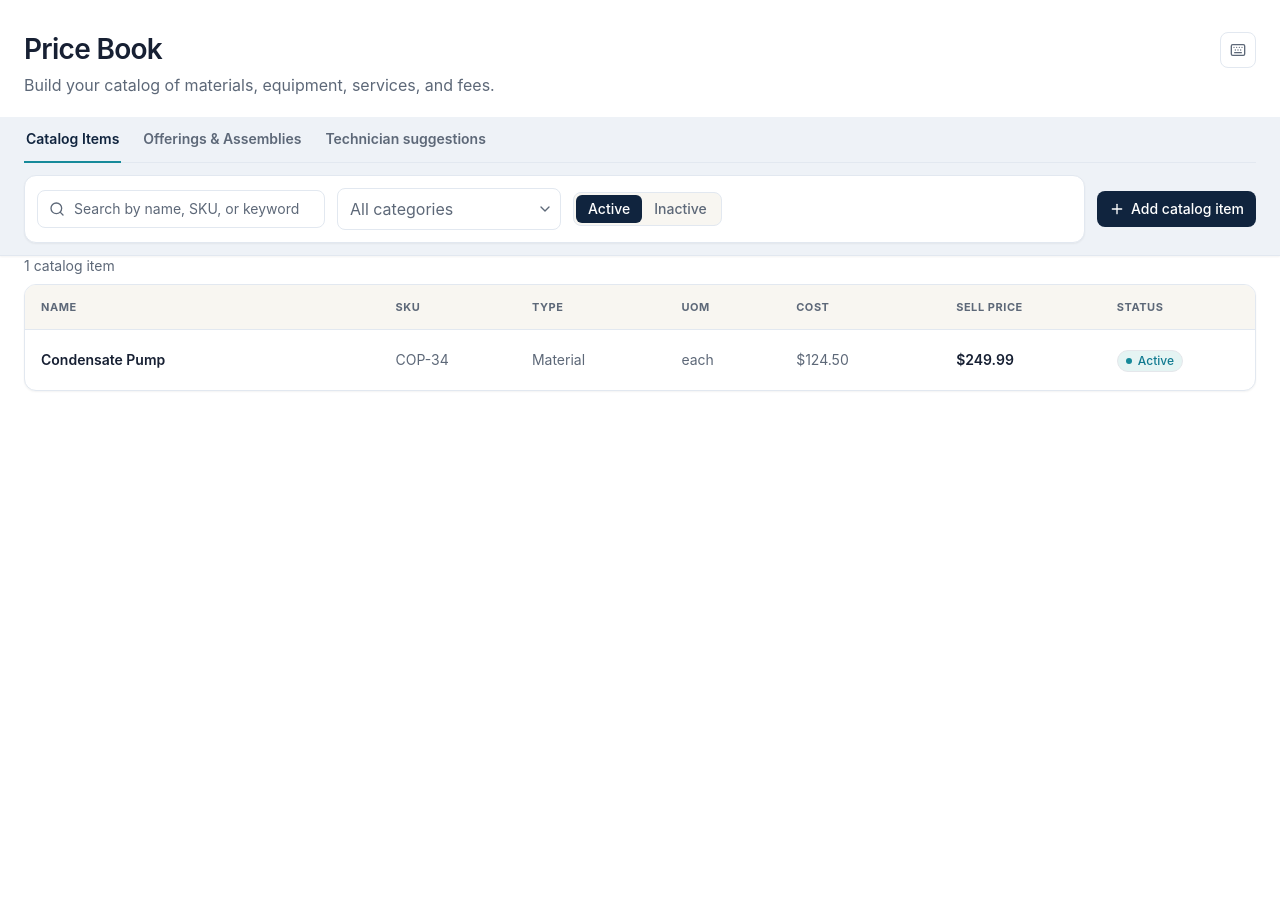
Test: PriceBook › shows a filtered-empty state distinct from the true zero-state, keeping the header CTA
The image size is (1280, 900).
Expected: the button "Condensate Pump" is shown, [41,350,165,370]
Type "nonexistent" into the field named "Search catalog".
click(181, 209); type("nonexistent")  # box [37,190,325,228]
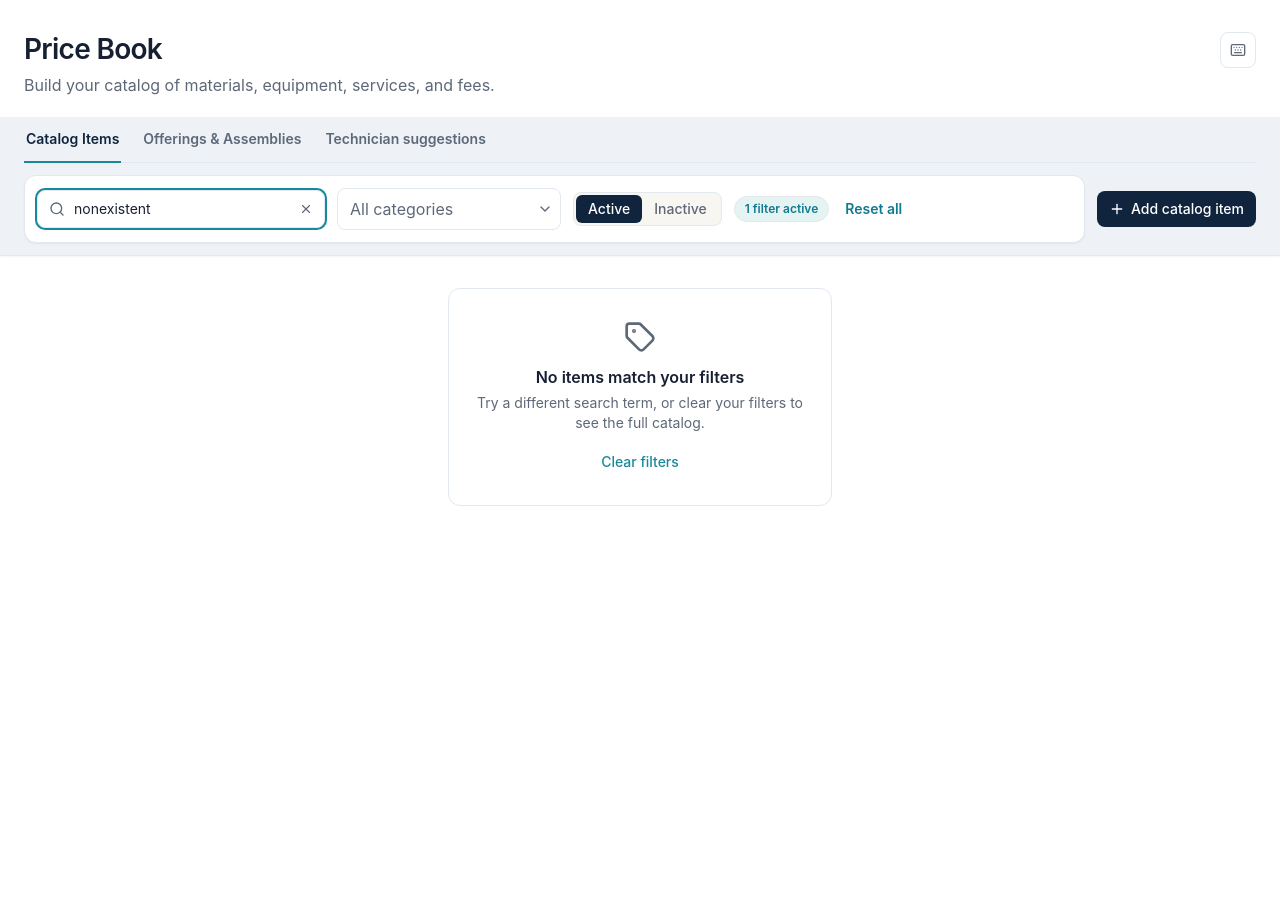
Expected: the text "What are you setting up?" is not shown
Expected: the heading "No items match your filters" is shown, [536,367,744,387]
Click the button "Reset all".
click(874, 209)  # box [837,195,910,223]
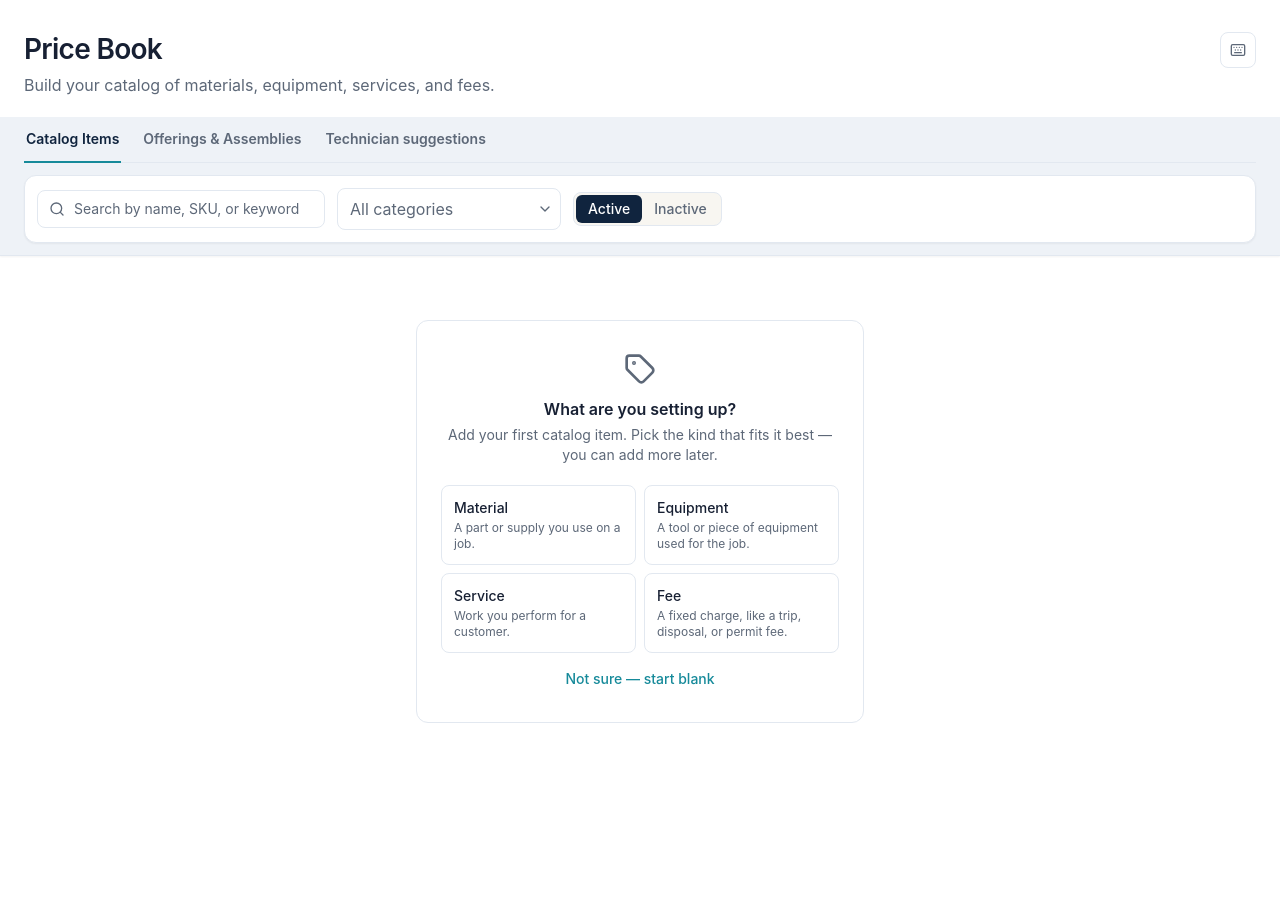
Expected: the field named "Search catalog" is empty, [37,190,325,228]
